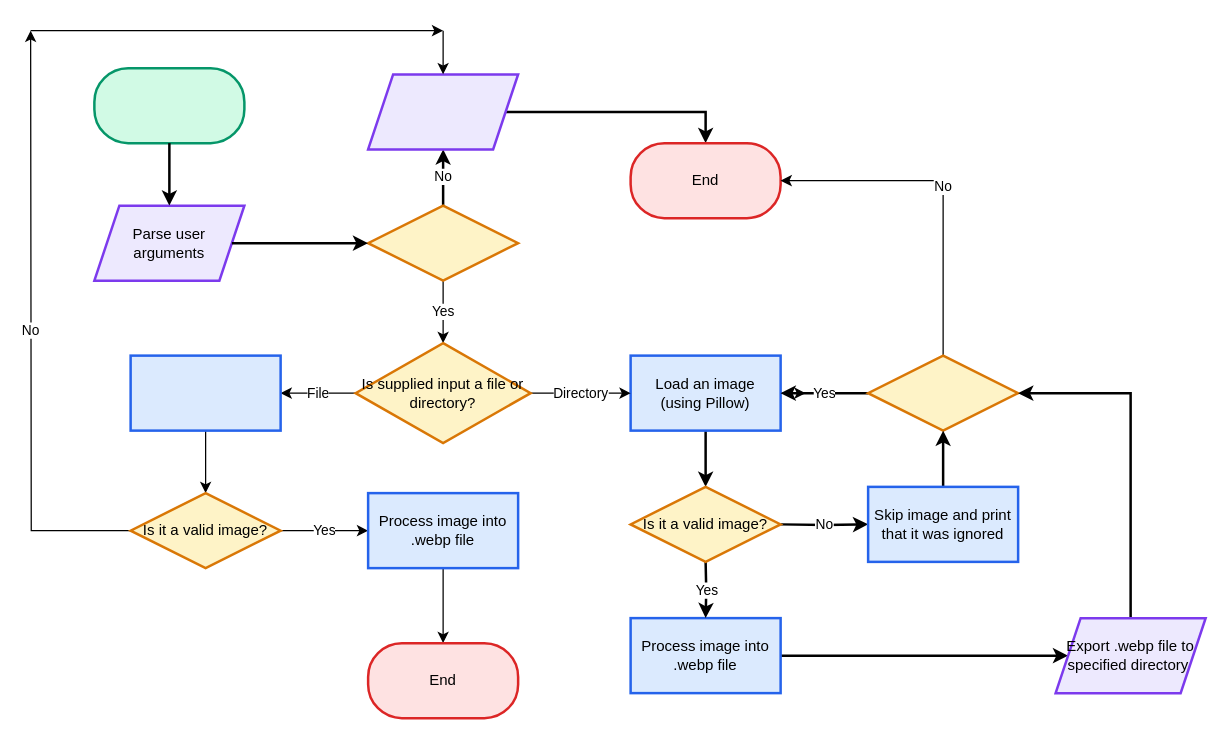
The diagram is 1229 pixels wide and 741 high, and some of its shapes have lost their labels. Each missing label, with the centre of its shape:
"Any images left?" goes at (x=942, y=392).
"Are arguments valid?" goes at (x=442, y=242).
"Command is called" goes at (x=168, y=105).
"Open image (using Pillow)" goes at (x=205, y=392).
"Throw descriptive error message" goes at (x=442, y=111).
